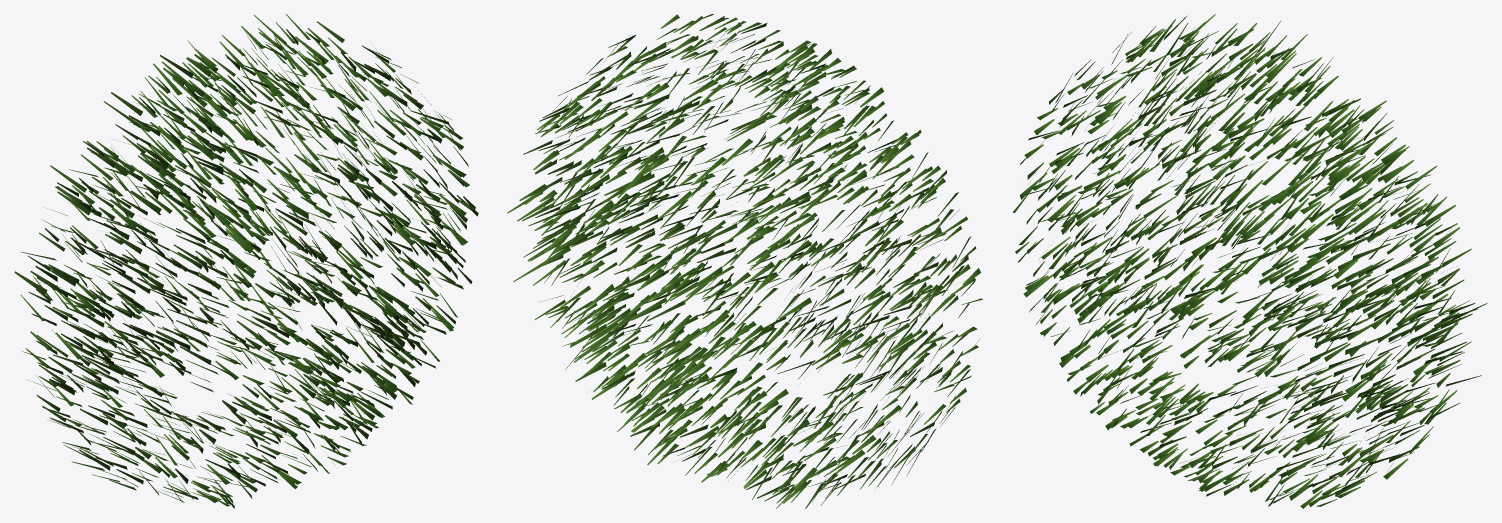
The model's file is Turf_Lawn.glb.
3 views of the same model, side by side, from view 1: azimuth 30°, elevation 25°; view 2: azimuth 150°, elevation 25°; view 3: azimuth 330°, elevation 25° (orthographic).
Parts seen in each view (by area): view 1: Turf_Lawn; view 2: Turf_Lawn; view 3: Turf_Lawn.
Boxes of the visible parts, <box> form: Turf_Lawn: <box>14,14,478,508</box>; Turf_Lawn: <box>507,14,982,508</box>; Turf_Lawn: <box>1013,14,1487,508</box>.
Bounding box in the file's own units: 0.9179 × 0.9099 × 0.1.
